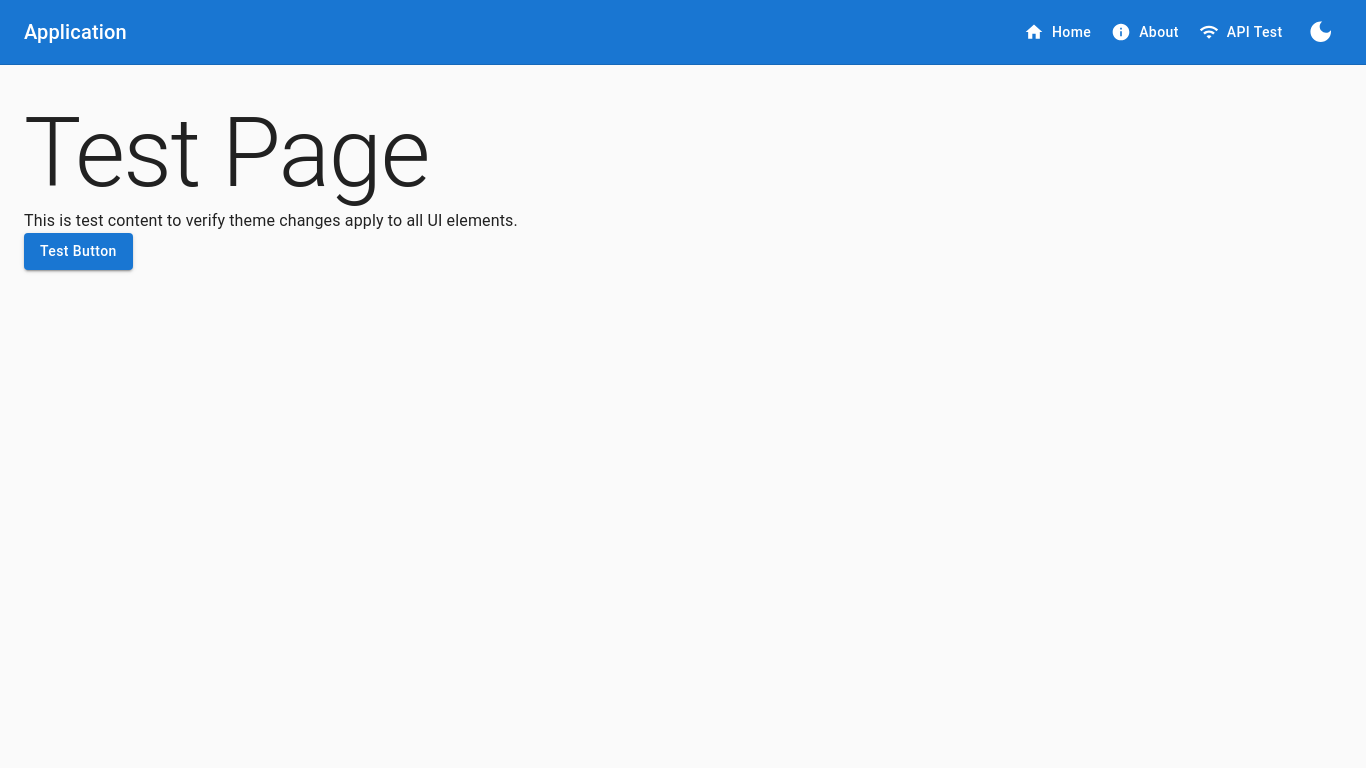
Story 6: Toggle Between Themes - Integration Tests › Acceptance Criterion 1: Application switches to opposite theme when toggle is clicked › should switch from light to dark theme when toggle is clicked
Click to switch to dark theme
Click the button named "switch to dark mode".
click(1320, 32)  # box [1299, 10, 1342, 54]
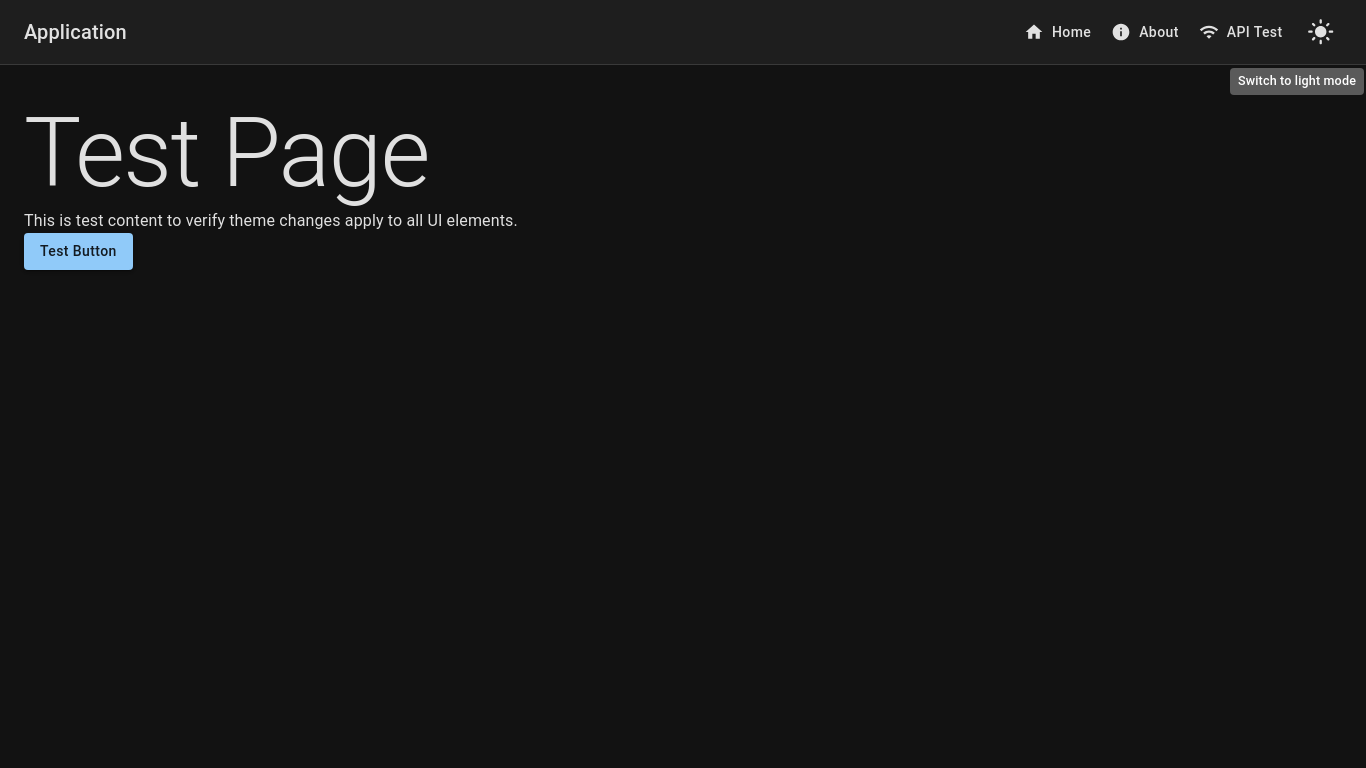
Result: the button named "switch to light mode" is shown at [1299, 10, 1342, 54]
